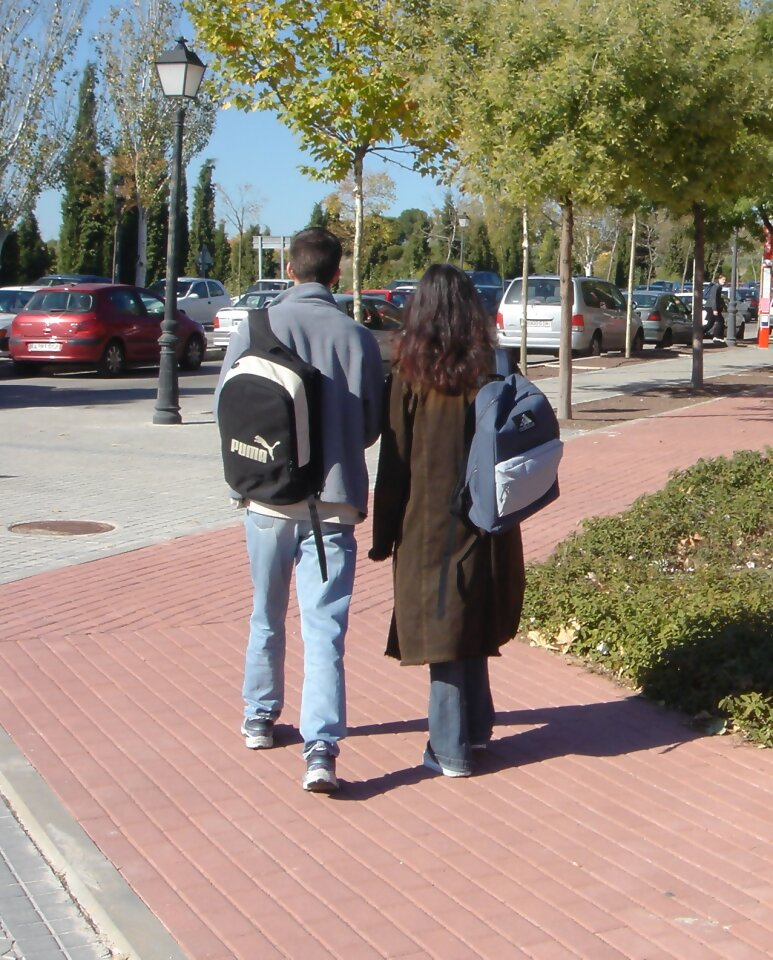person: (380, 244, 574, 785), (215, 215, 383, 803)
